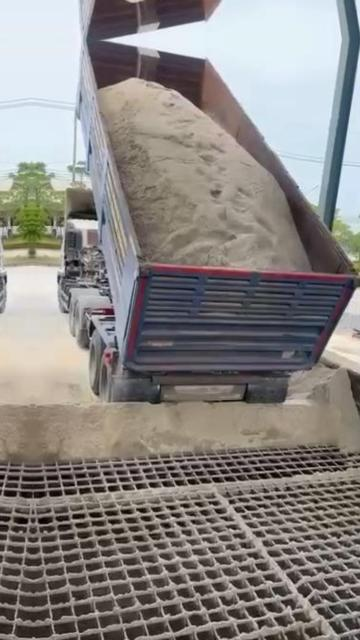sand: (38, 478, 342, 640), (99, 79, 311, 271), (33, 366, 360, 460), (293, 468, 360, 484)
